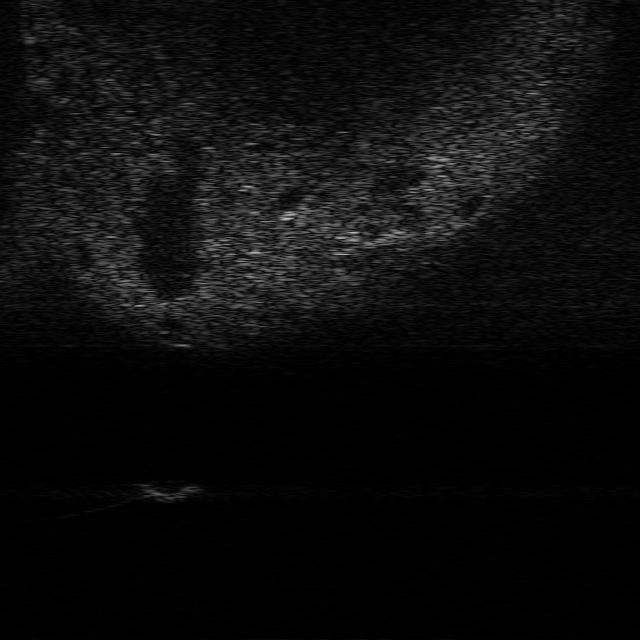cube: (138, 478, 200, 506)
